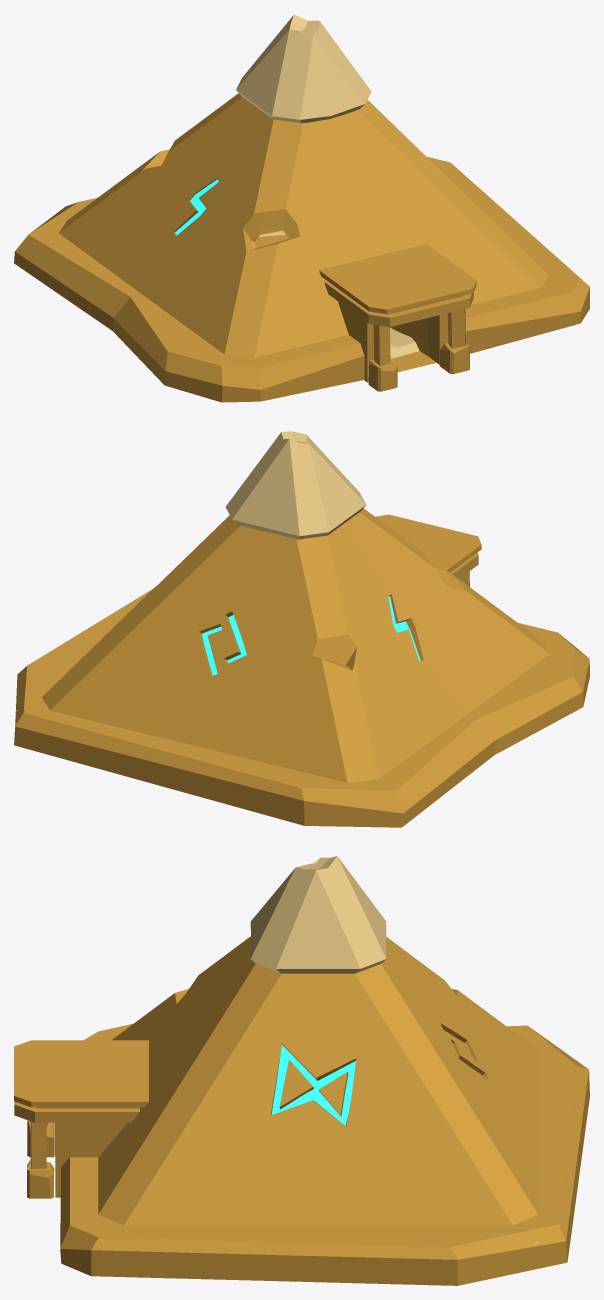
3 views of the same model, one above another, from view 1: azimuth 30°, elevation 25°; view 2: azimuth 150°, elevation 25°; view 3: azimuth 270°, elevation 25° (orthographic). The views are drawn at different scales.
Parts seen in each view (by area): view 1: Pyramid, Pyramid_sand; view 2: Pyramid; view 3: Pyramid.
Boxes of the visible parts, x1,y1,x2,y2 form: Pyramid: (14,14,589,402); Pyramid_sand: (259,230,419,358); Pyramid: (14,431,589,827); Pyramid: (14,856,589,1285).
Size of the model in its own units: 4184 by 2700 by 4258.
